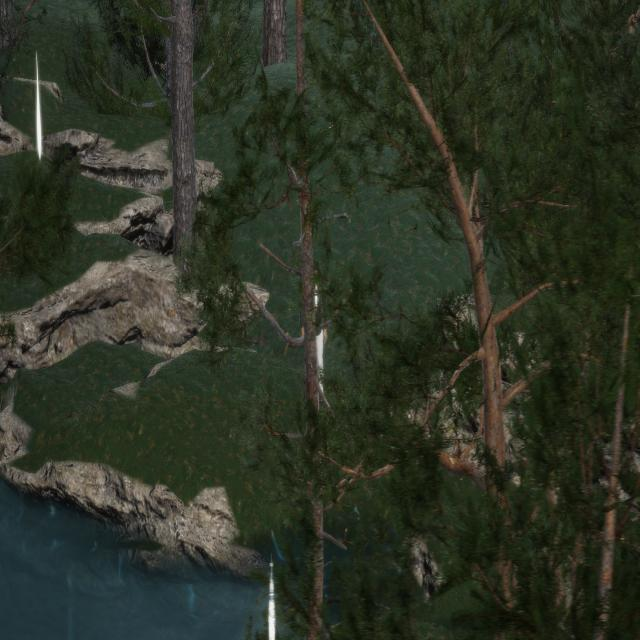Human: (302, 243, 337, 426)
